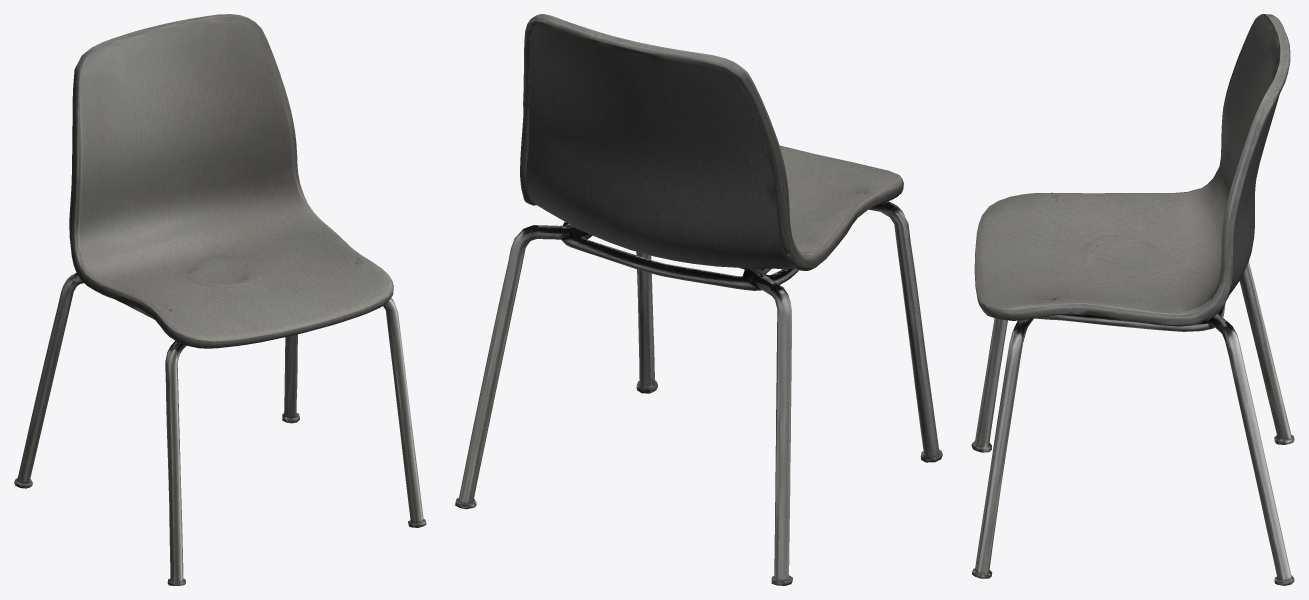
Rendered from chair_v01_with VARCO.fbx.
3 views of the same model, side by side, from view 1: azimuth 30°, elevation 25°; view 2: azimuth 150°, elevation 25°; view 3: azimuth 270°, elevation 25° (orthographic). The views are drawn at different scales.
Parts seen in each view (by area): view 1: Chair; view 2: Chair; view 3: Chair.
Part boxes in pixels (left/top/right/bottom): Chair: left=14, top=14, right=426, bottom=585; Chair: left=455, top=14, right=942, bottom=585; Chair: left=971, top=14, right=1294, bottom=585.
Size of the model in its own units: 57.05 by 82.01 by 52.1.
Materials: 1 (1 with a texture image).
